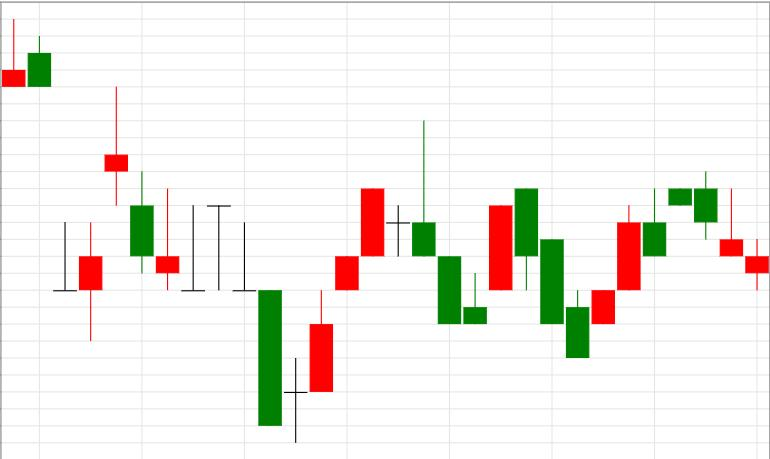three_white_soldiers_rise: (207, 189, 385, 443)
